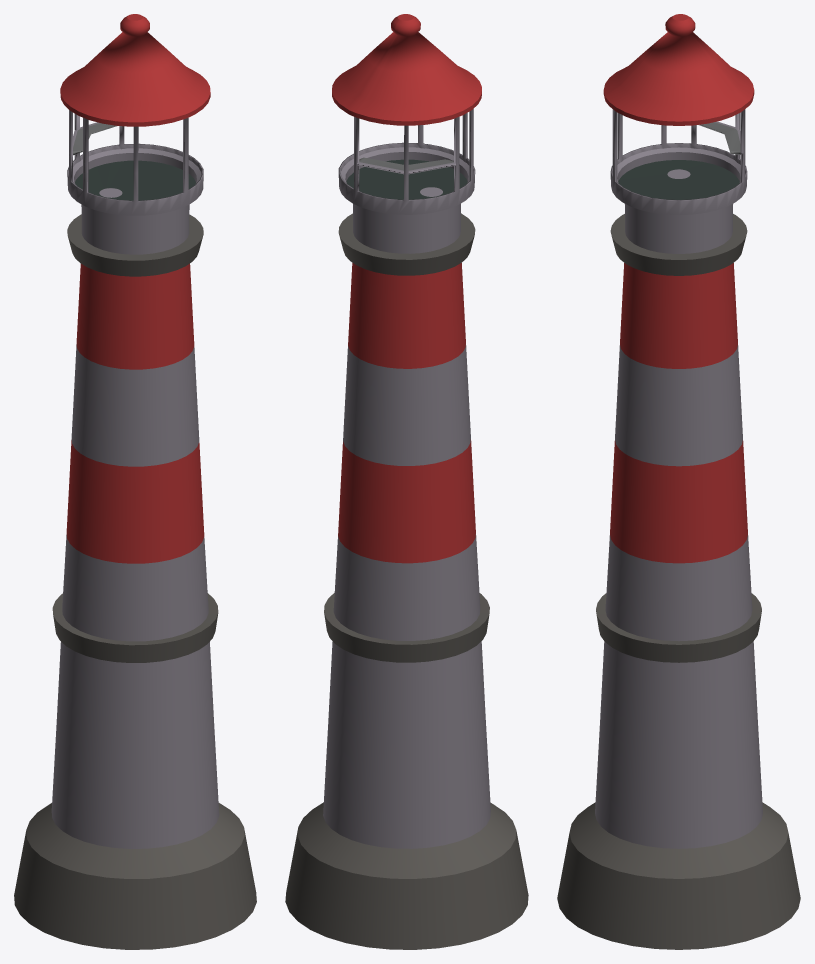
The model's file is lighthouse.fbx.
The picture shows the model from 3 angles, left to right: view 1: azimuth 30°, elevation 25°; view 2: azimuth 150°, elevation 25°; view 3: azimuth 270°, elevation 25°; orthographic projection.
Parts seen in each view (by area): view 1: Cylinder; view 2: Cylinder; view 3: Cylinder.
Boxes of the visible parts, left/top/right/bottom form: Cylinder: left=14, top=14, right=256, bottom=949; Cylinder: left=285, top=14, right=528, bottom=949; Cylinder: left=557, top=14, right=800, bottom=949.
Bounding box in the file's own units: 733 × 2927 × 733.
